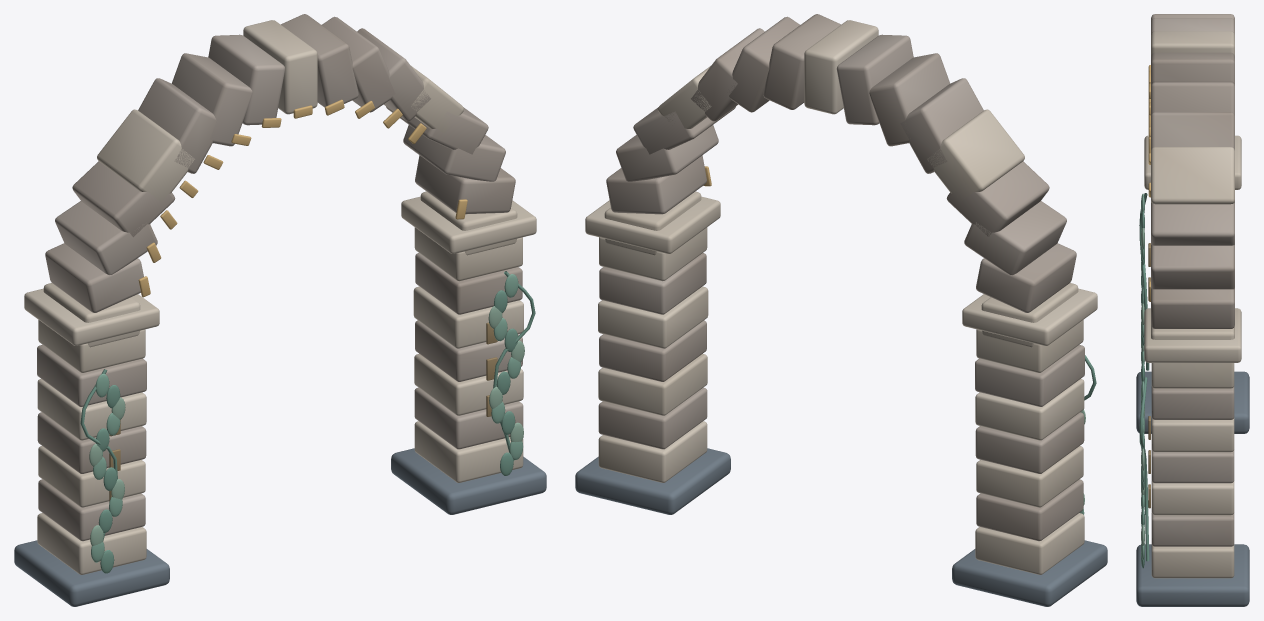
Rendered from ruin-arch.glb.
3 renders of one model, left to right at view 1: azimuth 30°, elevation 25°; view 2: azimuth 150°, elevation 25°; view 3: azimuth 270°, elevation 25°, orthographic. The views are drawn at different scales.
Parts seen in each view (by area): view 1: Arch footing.001, Arch footing, Rounded arch voussoir.012, Rounded arch voussoir.010, Rounded arch voussoir.014, Rounded arch voussoir.015, Rounded arch voussoir.011, Rounded arch voussoir.009, Rounded arch voussoir.013, Rounded arch voussoir.008, Springer, Springer.001 (+23 smaller); view 2: Arch footing.001, Arch footing, Rounded arch voussoir.012, Rounded arch voussoir.014, Rounded arch voussoir.010, Rounded arch voussoir.015, Rounded arch voussoir.009, Rounded arch voussoir.013, Rounded arch voussoir.011, Masonry block.011, Masonry block.005, Masonry block (+23 smaller); view 3: Rounded arch voussoir.004, Arch footing.001, Rounded arch voussoir.002, Rounded arch voussoir.003, Rounded arch voussoir.001, Rounded arch voussoir.005, Masonry block.007, Masonry block.011, Masonry block.009, Springer.001, Masonry block.012, Masonry block.008 (+12 smaller).
Boxes of the visible parts, left/top/right/bottom form: Arch footing.001: left=391, top=448, right=546, bottom=514; Arch footing: left=14, top=540, right=169, bottom=606; Rounded arch voussoir.012: left=97, top=109, right=194, bottom=202; Rounded arch voussoir.010: left=172, top=53, right=252, bottom=146; Rounded arch voussoir.014: left=55, top=201, right=157, bottom=274; Rounded arch voussoir.015: left=45, top=243, right=143, bottom=312; Rounded arch voussoir.011: left=138, top=78, right=220, bottom=173; Rounded arch voussoir.009: left=208, top=34, right=285, bottom=125; Rounded arch voussoir.013: left=72, top=161, right=175, bottom=237; Rounded arch voussoir.008: left=243, top=20, right=317, bottom=114; Springer: left=24, top=288, right=159, bottom=345; Springer.001: left=401, top=196, right=536, bottom=253; Arch footing.001: left=575, top=448, right=730, bottom=514; Arch footing: left=952, top=540, right=1107, bottom=606; Rounded arch voussoir.012: left=927, top=109, right=1024, bottom=201; Rounded arch voussoir.014: left=964, top=201, right=1066, bottom=274; Rounded arch voussoir.010: left=869, top=53, right=949, bottom=146; Rounded arch voussoir.015: left=976, top=243, right=1076, bottom=312; Rounded arch voussoir.009: left=836, top=34, right=913, bottom=125; Rounded arch voussoir.013: left=946, top=161, right=1049, bottom=236; Rounded arch voussoir.011: left=900, top=78, right=983, bottom=173; Masonry block.011: left=598, top=286, right=708, bottom=348; Masonry block.005: left=975, top=344, right=1084, bottom=406; Masonry block: left=975, top=513, right=1084, bottom=574; Rounded arch voussoir.004: left=1151, top=147, right=1234, bottom=204; Arch footing.001: left=1136, top=544, right=1249, bottom=606; Rounded arch voussoir.002: left=1151, top=245, right=1234, bottom=289; Rounded arch voussoir.003: left=1151, top=202, right=1234, bottom=245; Rounded arch voussoir.001: left=1151, top=288, right=1234, bottom=328; Rounded arch voussoir.005: left=1151, top=112, right=1234, bottom=150; Masonry block.007: left=1151, top=544, right=1234, bottom=578; Masonry block.011: left=1151, top=418, right=1234, bottom=452; Masonry block.009: left=1151, top=481, right=1234, bottom=515; Springer.001: left=1144, top=308, right=1241, bottom=362; Masonry block.012: left=1151, top=386, right=1234, bottom=419; Masonry block.008: left=1151, top=513, right=1234, bottom=546.
Size of the model in its own units: 5.49 by 5.41 by 1.2.
